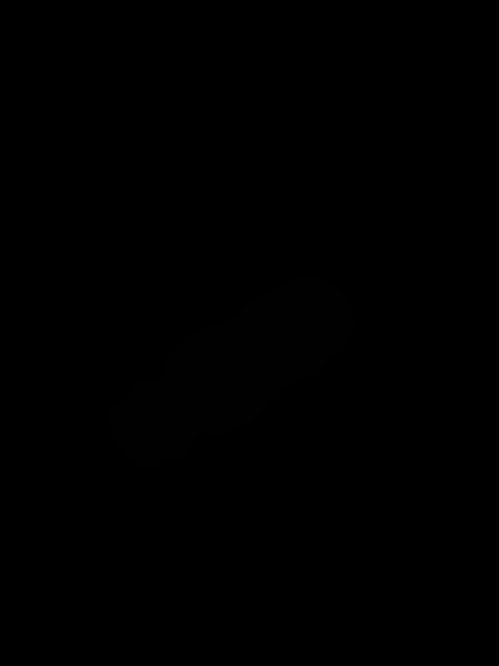milk_bottle: (103, 272, 358, 475)
